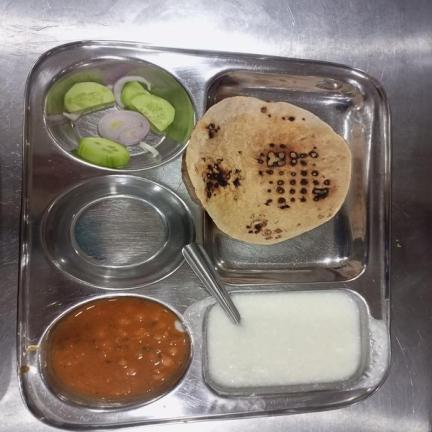Chhole: (51, 297, 188, 404)
Dahi: (208, 290, 361, 388)
Plate: (17, 39, 392, 431)
Roti: (185, 95, 353, 245)
Salad: (62, 74, 176, 166)
